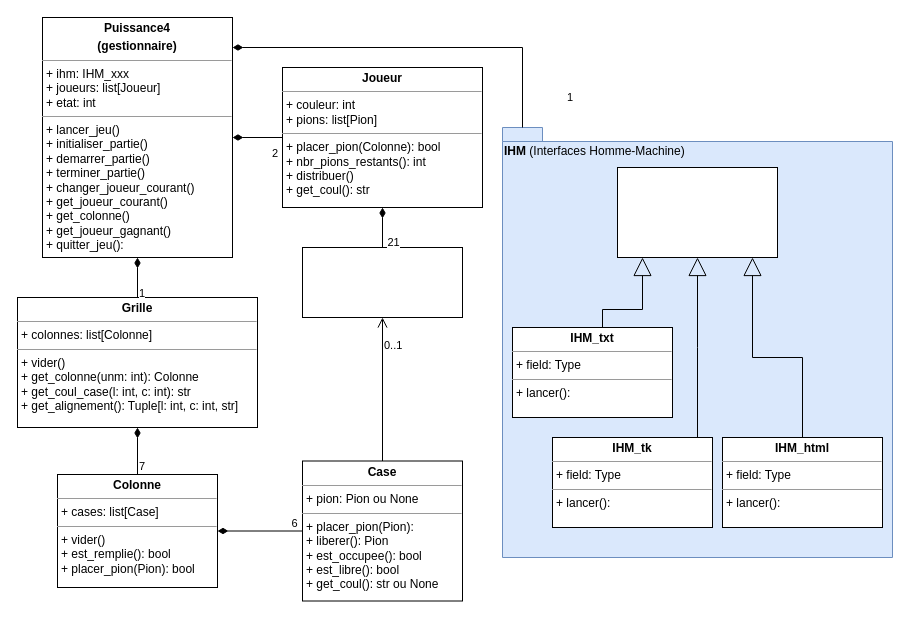
Image size: 910x619. Some labels were removed from this diagram. Here are the shapes that lost their labels. From the top down, the centre of each, then its label:
At point (697, 212): "IHM + field: Type + lancer():".
At point (382, 282): "Pion + couleur: str ('R' ou 'J')".
